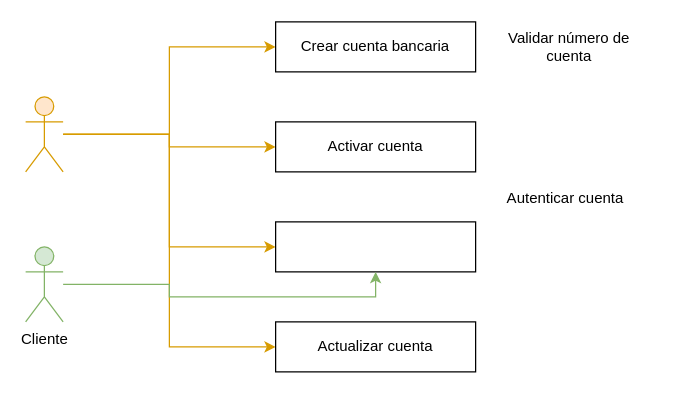
The diagram is 673 pixels wide and 394 high, and some of its shapes have lost their labels. Here are the shapes that lost their labels. From the top down, the centre of each, then its label:
At point 43,134: "Asesor".
At point 375,246: "Inactivar cuenta".
